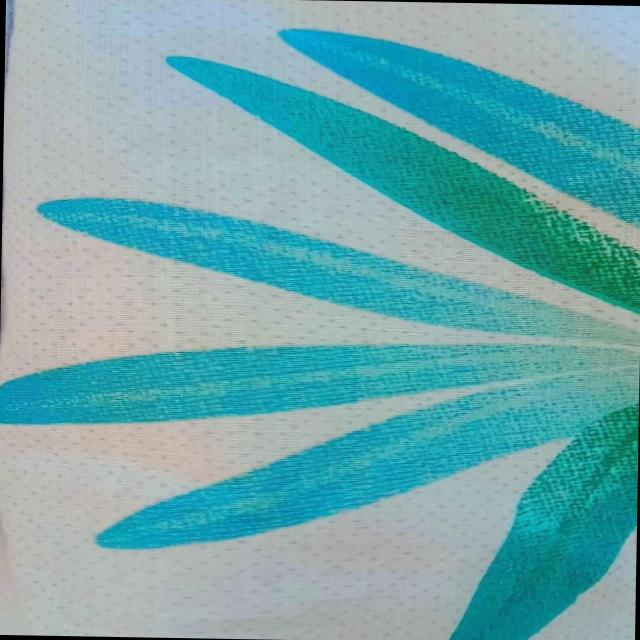color issues: (418, 285, 624, 439), (102, 339, 392, 419), (72, 203, 371, 280), (444, 160, 628, 270), (215, 74, 354, 144)
